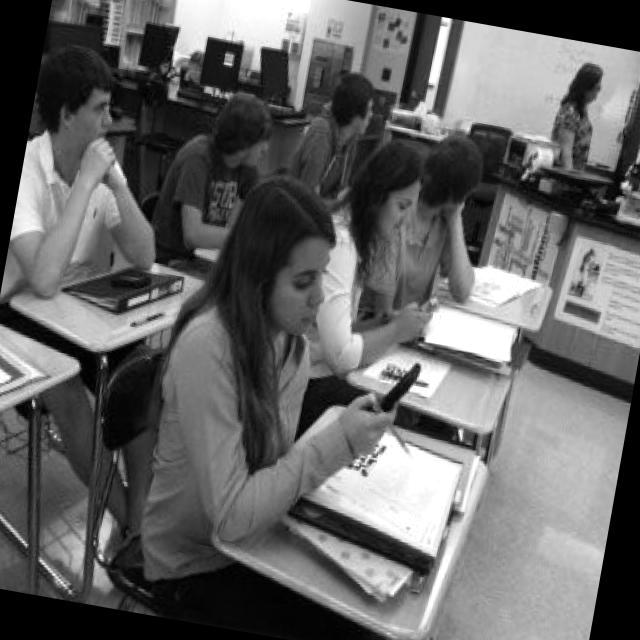phone: (376, 356, 421, 416)
